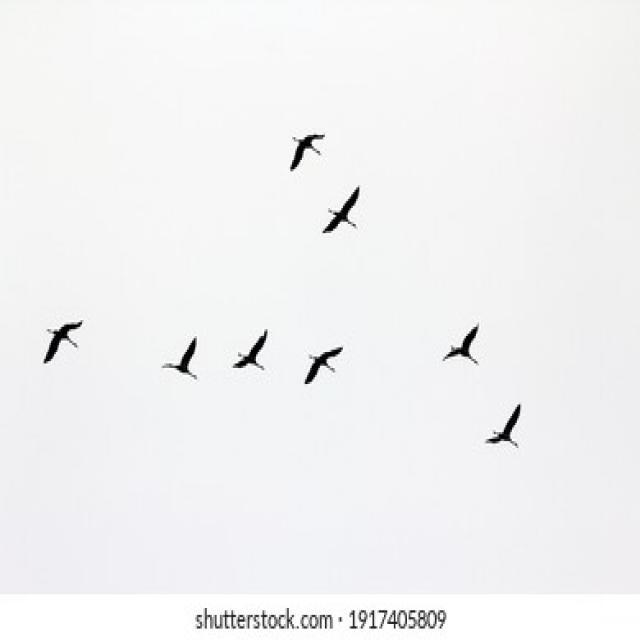bird: (27, 271, 122, 404), (434, 302, 518, 410), (267, 97, 348, 186), (214, 290, 286, 386), (463, 373, 531, 466), (145, 290, 211, 375), (298, 314, 352, 397), (318, 161, 368, 241)
